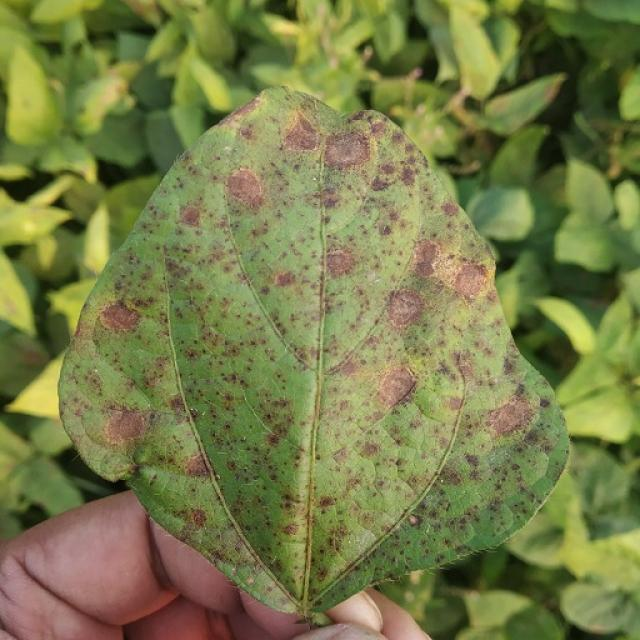Anthracnose: (284, 173, 483, 418), (225, 124, 349, 366), (312, 347, 431, 506), (177, 340, 300, 479), (169, 225, 273, 366), (74, 347, 165, 456), (318, 113, 394, 242), (407, 233, 493, 315), (134, 416, 206, 473), (218, 159, 278, 222), (187, 303, 248, 360), (411, 371, 464, 424), (483, 392, 537, 439), (376, 365, 419, 412), (324, 128, 371, 170), (225, 166, 264, 210), (102, 408, 148, 445), (282, 113, 322, 154), (386, 288, 425, 329), (451, 262, 489, 301), (99, 301, 139, 334), (410, 239, 441, 277), (225, 97, 262, 126), (96, 451, 131, 477), (325, 248, 356, 277), (347, 110, 388, 130), (183, 455, 210, 477), (179, 203, 203, 227), (370, 173, 394, 193), (273, 270, 296, 288), (399, 166, 417, 185), (190, 508, 208, 527), (360, 441, 380, 458), (321, 193, 339, 210), (441, 202, 459, 217), (327, 535, 342, 553), (464, 452, 480, 468), (318, 495, 336, 509), (282, 522, 300, 536), (265, 432, 281, 447), (408, 514, 423, 527), (380, 222, 393, 236), (538, 396, 552, 409), (188, 406, 199, 417), (149, 472, 158, 483), (246, 576, 255, 585), (264, 584, 273, 593), (323, 215, 331, 224)
Blackgram: (61, 89, 566, 614)
